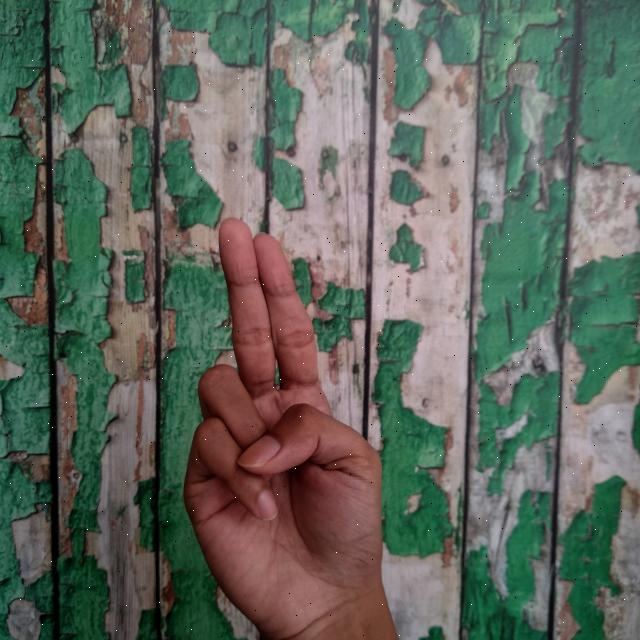U: (179, 212, 401, 640)
